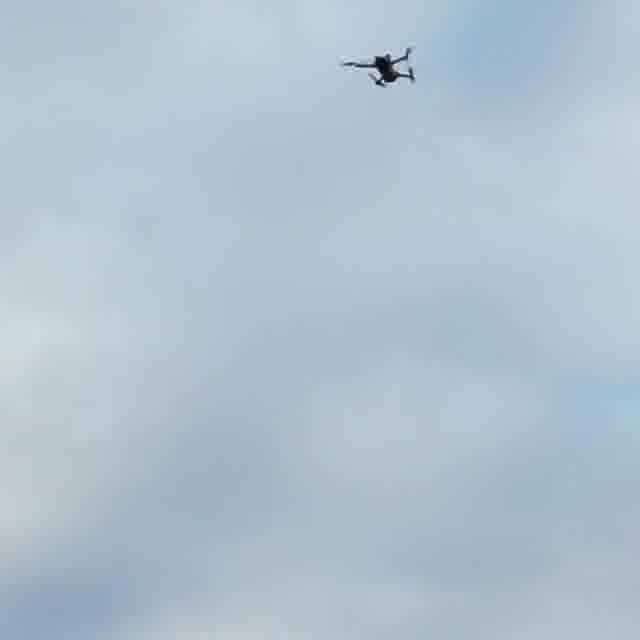Drohne: (343, 47, 415, 87)
